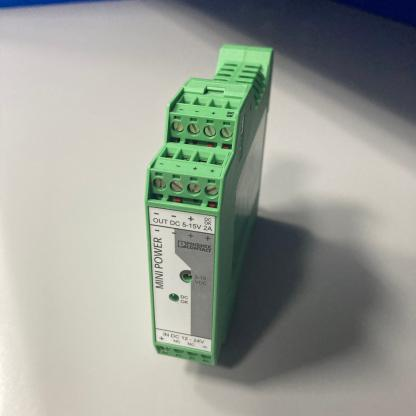SP0000011: (50, 30, 363, 381)
